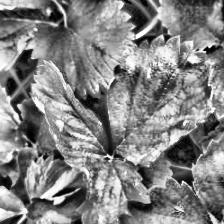Powdery Mildew Leaf: (105, 33, 214, 168), (29, 60, 110, 172), (114, 176, 224, 224), (76, 156, 151, 224), (190, 124, 224, 224), (0, 185, 29, 224)
